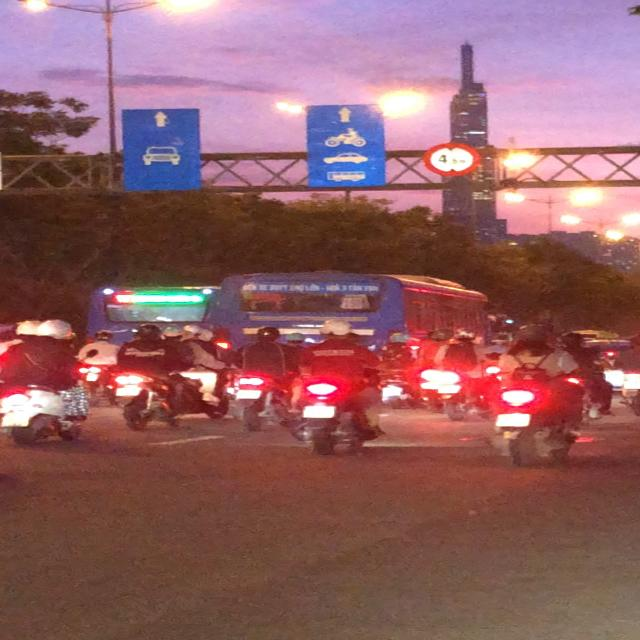Bien bao han che chieu cao: (423, 132, 486, 182)
